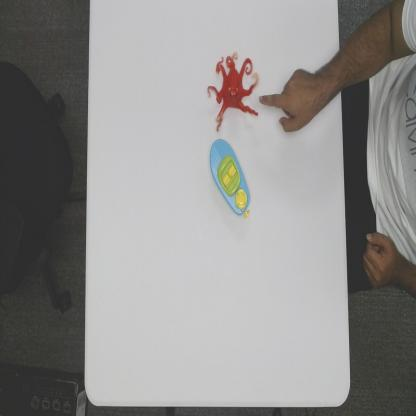Boat: (209, 138, 252, 220)
Hand: (259, 66, 320, 135)
Octopus: (206, 50, 260, 134)
